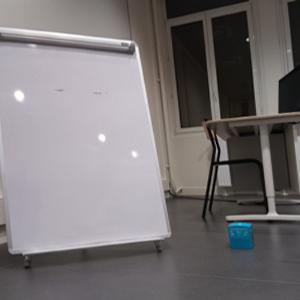big: (1, 38, 169, 261)
small: (228, 222, 254, 249)
